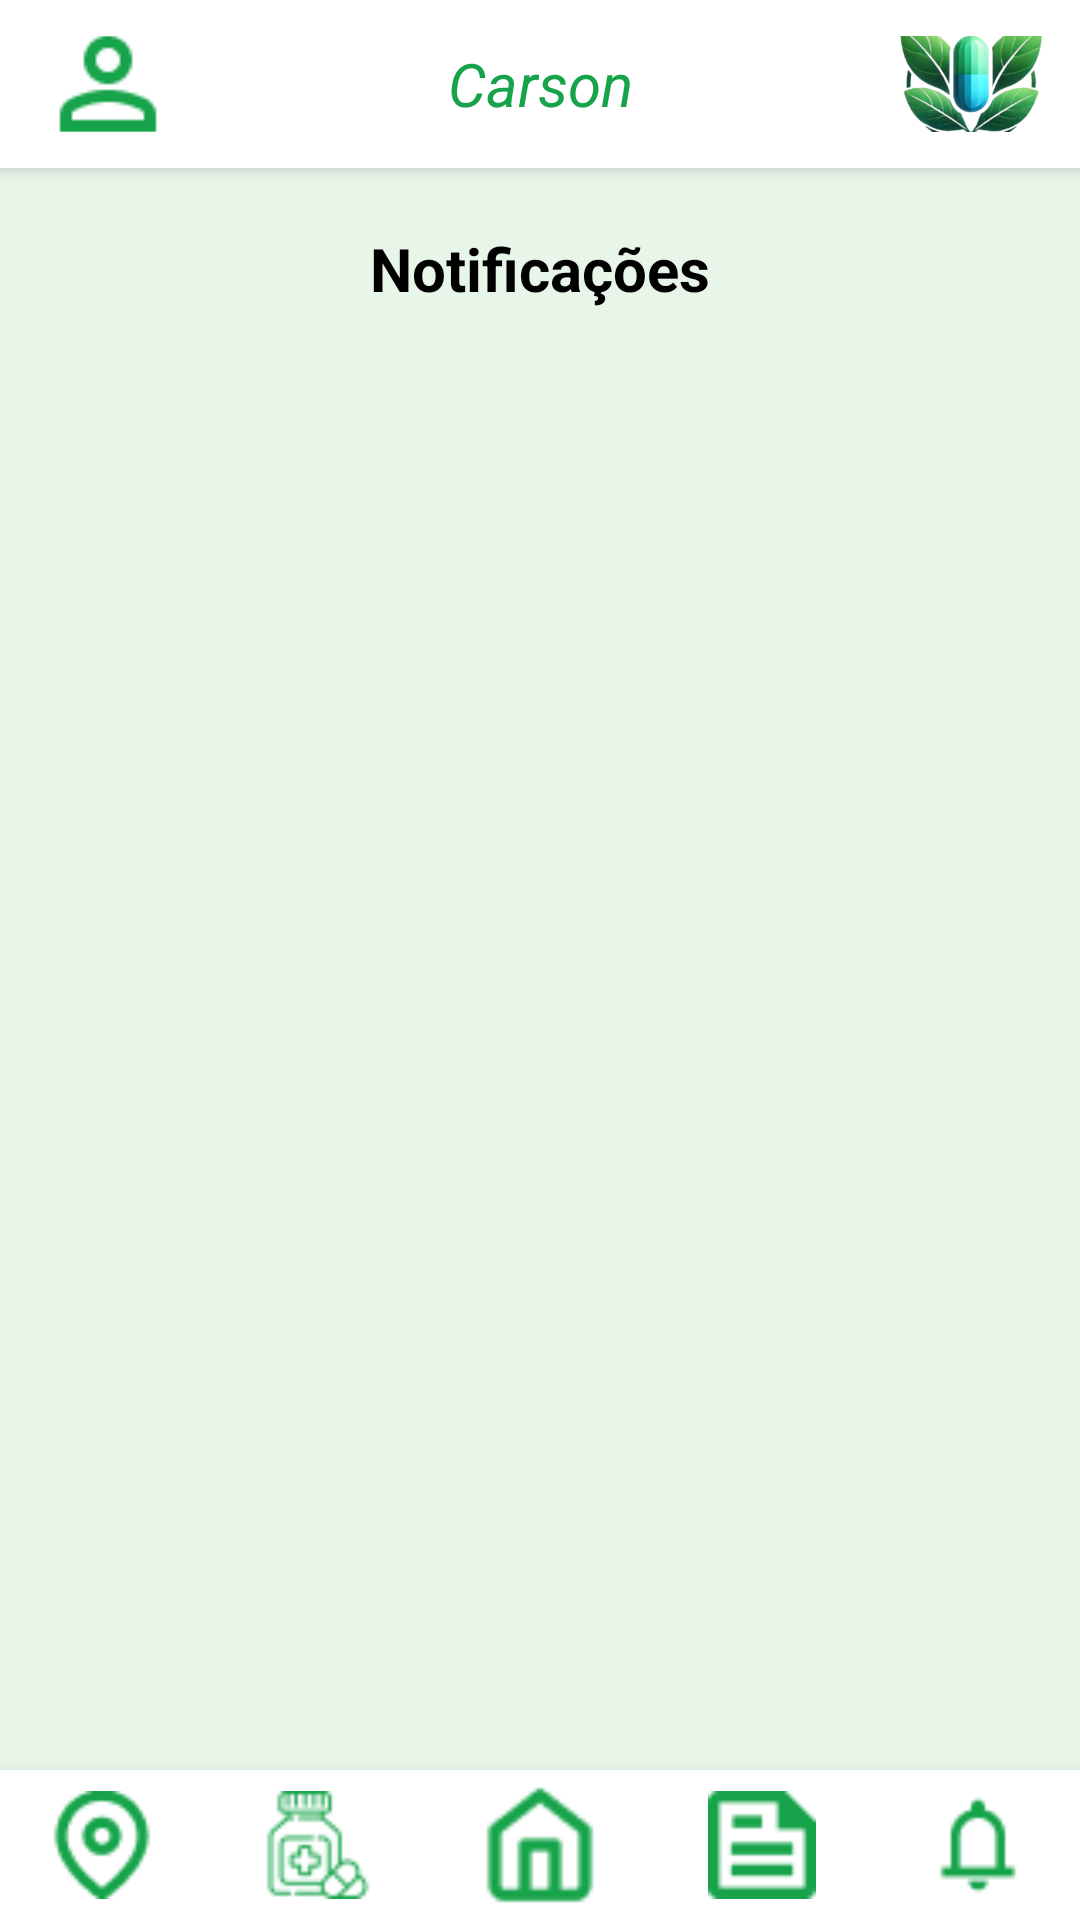

Named icons in this screenshot (1080×1920) and their bounding boxes, (x1, y1, x2, y2):
Início: (486, 1787, 594, 1903)
Mapa: (54, 1791, 150, 1899)
Menu de perfil: (59, 36, 157, 132)
Meus Medicamentos: (266, 1791, 370, 1899)
Notícias: (708, 1791, 816, 1899)
